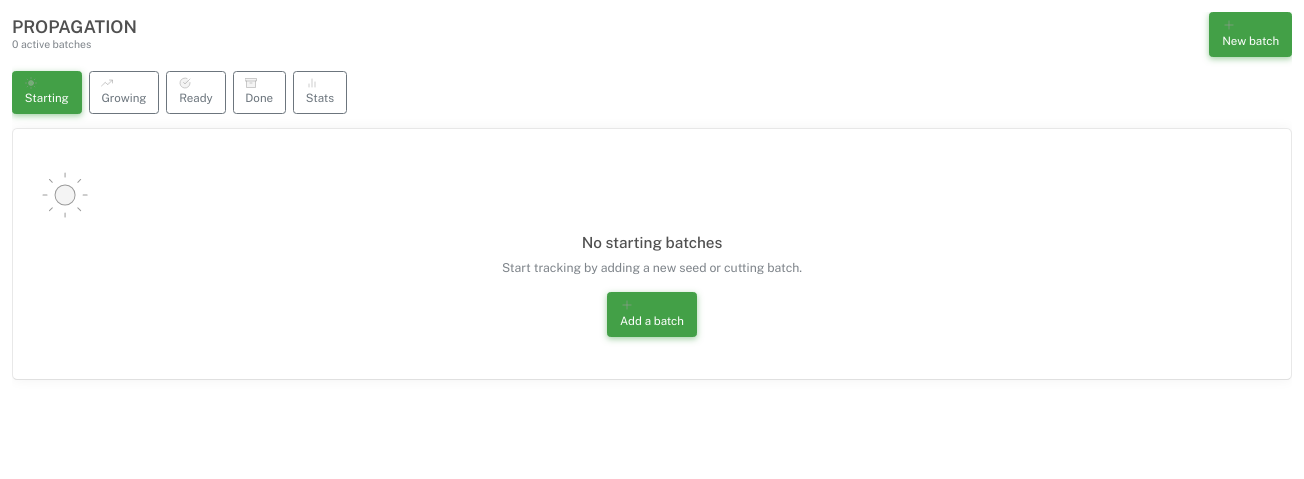
Scenario: PropagationPage stats tab › shows species stats table when Stats tab is clicked
Click the button "Stats" at (320, 92), box x1=293 y1=71 x2=347 y2=114
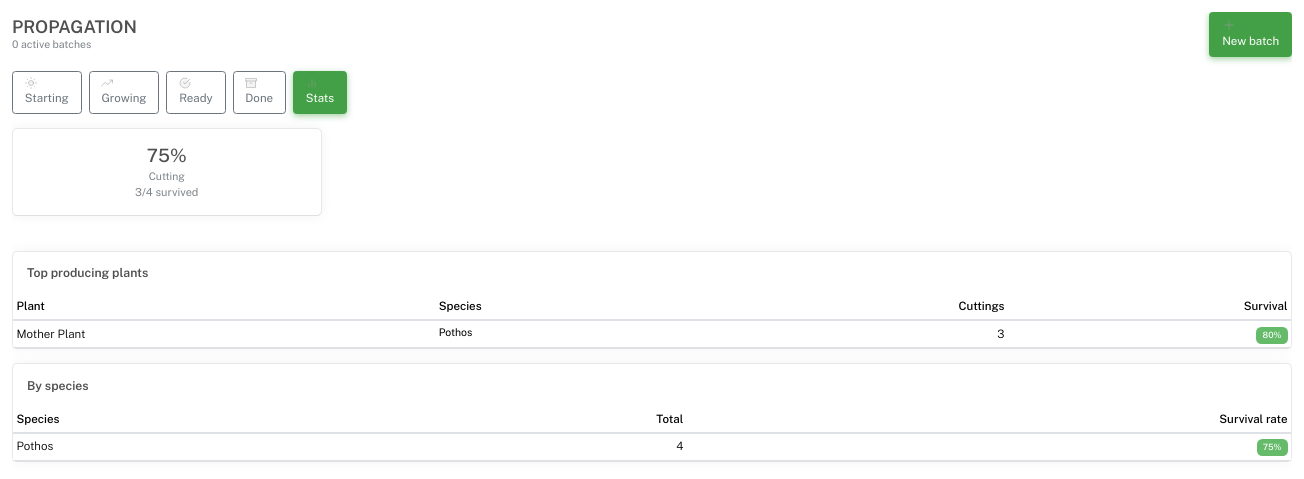
Check: the heading "By species" is shown, box x1=27 y1=378 x2=89 y2=393
Check: the text "Pothos" in the row of "Mother Plant" is shown, box x1=439 y1=326 x2=472 y2=338
